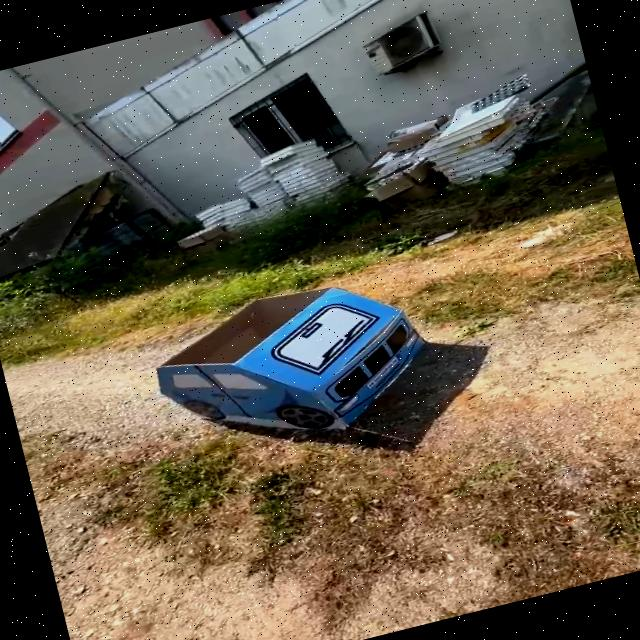blue_car: (114, 248, 467, 480)
